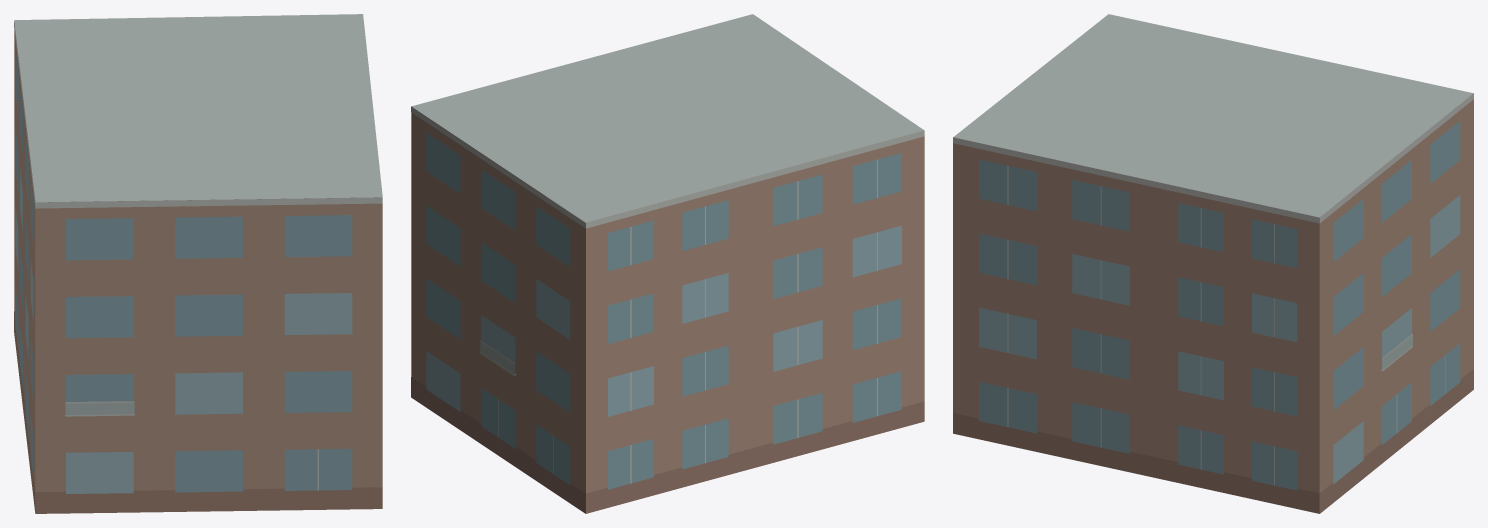
The model's file is survey-upis-32698424.glb.
3 views of the same model, side by side, from view 1: azimuth 30°, elevation 25°; view 2: azimuth 150°, elevation 25°; view 3: azimuth 270°, elevation 25° (orthographic). The views are drawn at different scales.
Parts seen in each view (by area): view 1: survey-upis-32698424.tmp; view 2: survey-upis-32698424.tmp; view 3: survey-upis-32698424.tmp.
Boxes of the visible parts, x1,y1,x2,y2 form: survey-upis-32698424.tmp: (14,14,382,513); survey-upis-32698424.tmp: (411,14,924,513); survey-upis-32698424.tmp: (953,14,1473,513).
Bounding box in the file's own units: 17.98 × 12.2 × 19.44.
